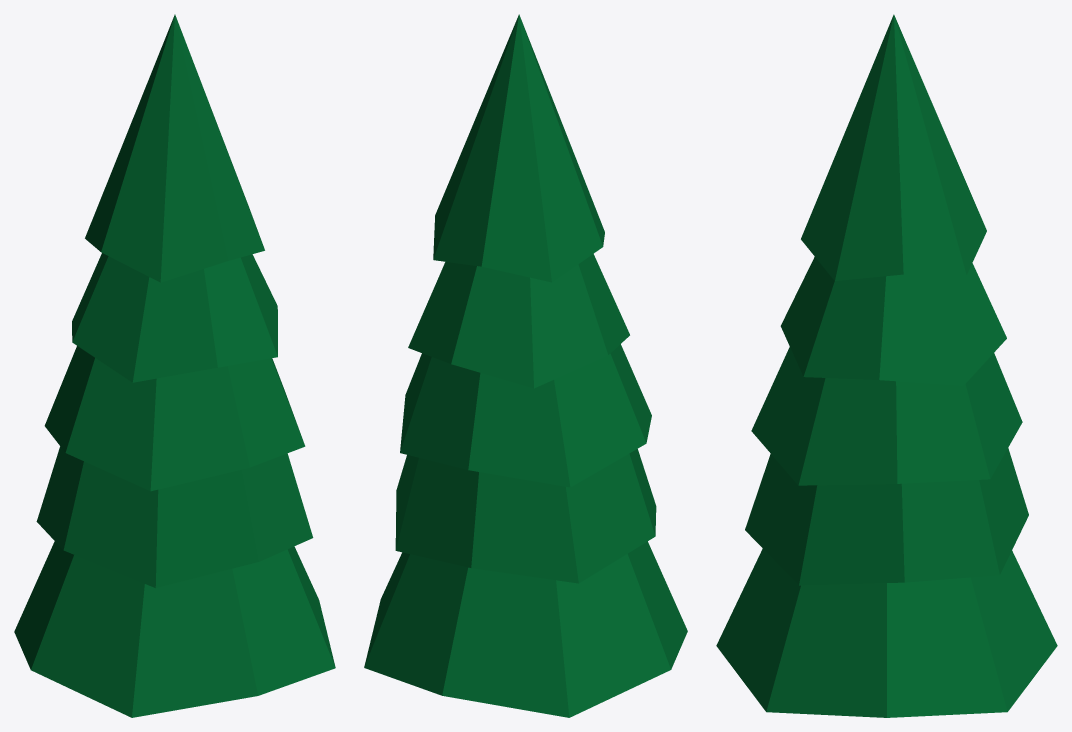
The model's file is pineTree03.fbx.
The picture shows the model from 3 angles, left to right: view 1: azimuth 30°, elevation 25°; view 2: azimuth 150°, elevation 25°; view 3: azimuth 270°, elevation 25°; orthographic projection. The views are drawn at different scales.
Parts seen in each view (by area): view 1: pineTree03; view 2: pineTree03; view 3: pineTree03.
Boxes of the visible parts, x1=… form: pineTree03: x1=14, y1=14, x2=335, y2=717; pineTree03: x1=364, y1=14, x2=687, y2=717; pineTree03: x1=716, y1=14, x2=1057, y2=717.
Bounding box in the file's own units: 287 × 647 × 287.
